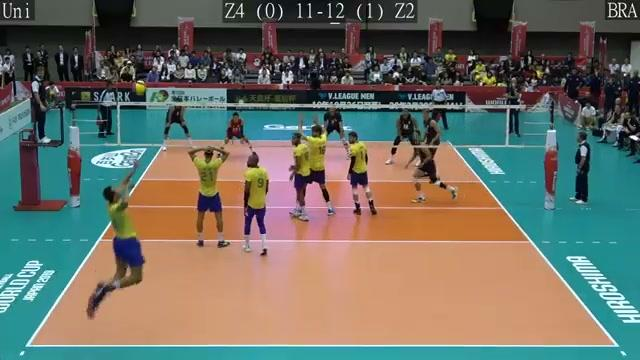ball: (134, 79, 146, 97)
